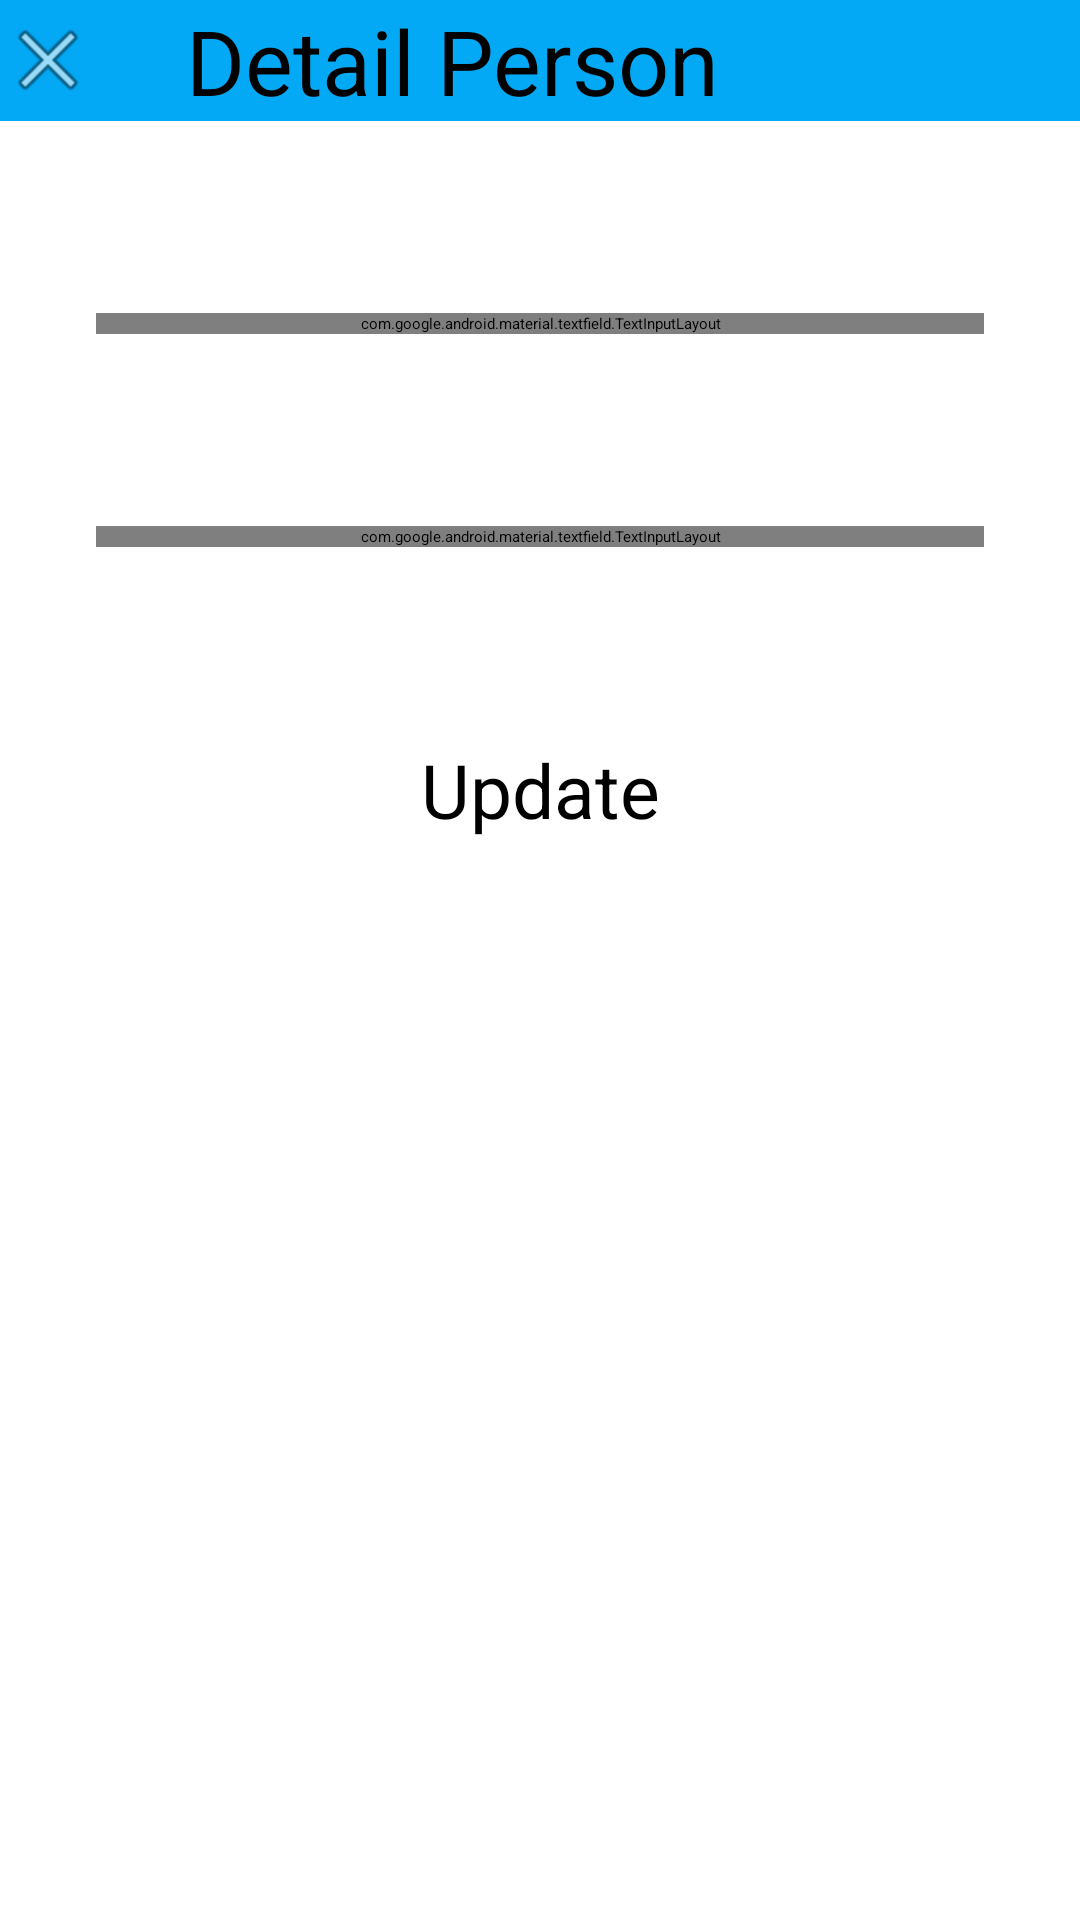

Icons on this 1080×1920 Android screen, each with its box as box(x1, y1, x2, y2):
close clear cancel: box(18, 30, 78, 90)
